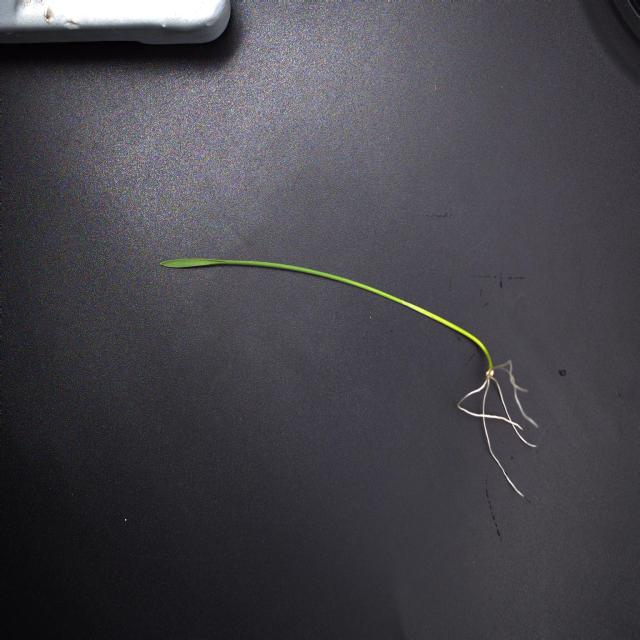leaf: (156, 255, 404, 303)
root: (456, 375, 537, 498)
steb: (399, 298, 494, 370)
